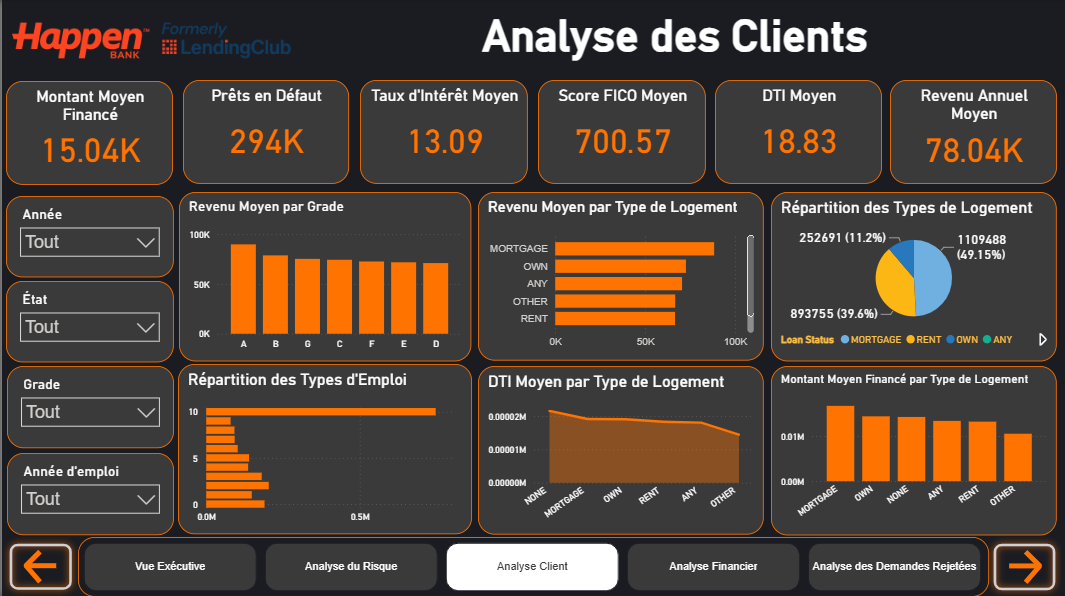

The page's visual inventory and layout, read from the dashboard file:
{"tool":"powerbi","page":{"name":"Analyse Client","canvas":[1280,720],"ordinal":2},"visuals":[{"type":"image","box":[12,8.4,335.9,83.1],"z":0},{"type":"cardVisual","title":"Montant Moyen Financé","fields":{"Data":["MESURES.Average Funded Amount"]},"box":[5.1,98.3,201.1,124.5],"z":1000},{"type":"textbox","box":[360,8.4,900.6,80.7],"z":2000},{"type":"cardVisual","title":"Prêts en Défaut","fields":{"Data":["MESURES.Defaulted Loans"]},"box":[217.5,97.7,199.6,125.2],"z":3000},{"type":"cardVisual","title":"Taux d''Intérêt Moyen","fields":{"Data":["Avg(FACT_ACCEPTED_LOANS.INTEREST_RATE)"]},"box":[430.8,97.7,202.3,125.2],"z":4000},{"type":"cardVisual","title":"Score FICO Moyen","fields":{"Data":["MESURES.Average FICO"]},"box":[645.5,97.7,202.3,125.2],"z":5000},{"type":"cardVisual","title":"DTI Moyen","fields":{"Data":["Avg(FACT_ACCEPTED_LOANS.DTI)"]},"box":[858.8,97.7,200.9,125.2],"z":6000},{"type":"pageNavigator","box":[91.5,647.8,1096.9,72.2],"z":7000},{"type":"actionButton","box":[1186,647.8,90.3,72.2],"z":8000},{"type":"cardVisual","title":"Revenu Annuel Moyen","fields":{"Data":["Avg(FACT_ACCEPTED_LOANS.ANNUAL_INCOME)"]},"box":[1069.4,97.7,200.9,125.2],"z":9000},{"type":"slicer","fields":{"Values":["DIM_DATE.YEAR"]},"box":[5,236.7,201.7,98.3],"z":10000},{"type":"slicer","fields":{"Values":["DIM_STATE.STATE_CODE"]},"box":[5,340,201.7,98.3],"z":11000},{"type":"slicer","fields":{"Values":["DIM_GRADE.GRADE"]},"box":[6,441.9,201.1,98.7],"z":12000},{"type":"slicer","fields":{"Values":["DIM_EMPLOYMENT.EMPLOYMENT_YEARS"]},"box":[6,546.6,201.1,98.7],"z":13000},{"type":"clusteredColumnChart","title":"Revenu Moyen par Grade","fields":{"Category":["DIM_GRADE.GRADE"],"Y":["Avg(FACT_ACCEPTED_LOANS.ANNUAL_INCOME)"]},"box":[213.3,232.6,352.3,203.7],"z":14000},{"type":"clusteredBarChart","title":"Revenu Moyen par Type de Logement","fields":{"Category":["DIM_HOME_OWNERSHIP.HOME_OWNERSHIP"],"Y":["Avg(FACT_ACCEPTED_LOANS.ANNUAL_INCOME)"]},"box":[573.1,232.4,344.3,203.5],"z":15000},{"type":"barChart","title":"Répartition des Types d''Emploi","fields":{"Category":["DIM_EMPLOYMENT.EMPLOYMENT_YEARS"],"Y":["MESURES.Accepted Loans"]},"box":[212,439.1,353.7,205.1],"z":16000},{"type":"lineChart","title":"DTI Moyen par Type de Logement","fields":{"Category":["DIM_HOME_OWNERSHIP.HOME_OWNERSHIP"],"Y":["Avg(FACT_ACCEPTED_LOANS.DTI)"]},"box":[573.1,441.9,344.3,203.5],"z":17000},{"type":"pieChart","title":"Répartition des Types de Logement","fields":{"Category":["DIM_HOME_OWNERSHIP.HOME_OWNERSHIP"],"Y":["MESURES.Accepted Loans"]},"box":[925.9,232.4,344.1,203.7],"z":18000},{"type":"columnChart","title":"Montant Moyen Financé par Type de Logement","fields":{"Category":["DIM_HOME_OWNERSHIP.HOME_OWNERSHIP"],"Y":["MESURES.Average Funded Amount"]},"box":[925.9,441.9,344.1,203.7],"z":19000},{"type":"actionButton","box":[1.4,648.3,90.8,71.6],"z":20000}]}

Visuals, with their boxes in screenshot pixels (x1, y1, x2, y2), scaled from the page's 1280x720 canvas onto the 1065x596 screenshot:
image: x1=10, y1=7, x2=289, y2=76
"Montant Moyen Financé" cardVisual: x1=4, y1=81, x2=172, y2=184
textbox: x1=300, y1=7, x2=1049, y2=74
"Prêts en Défaut" cardVisual: x1=181, y1=81, x2=347, y2=185
"Taux d''Intérêt Moyen" cardVisual: x1=358, y1=81, x2=527, y2=185
"Score FICO Moyen" cardVisual: x1=537, y1=81, x2=705, y2=185
"DTI Moyen" cardVisual: x1=715, y1=81, x2=882, y2=185
pageNavigator: x1=76, y1=536, x2=989, y2=595
actionButton: x1=987, y1=536, x2=1062, y2=595
"Revenu Annuel Moyen" cardVisual: x1=890, y1=81, x2=1057, y2=185
slicer - DIM_DATE.YEAR: x1=4, y1=196, x2=172, y2=277
slicer - DIM_STATE.STATE_CODE: x1=4, y1=281, x2=172, y2=363
slicer - DIM_GRADE.GRADE: x1=5, y1=366, x2=172, y2=447
slicer - DIM_EMPLOYMENT.EMPLOYMENT_YEARS: x1=5, y1=452, x2=172, y2=534
"Revenu Moyen par Grade" clusteredColumnChart: x1=177, y1=193, x2=471, y2=361
"Revenu Moyen par Type de Logement" clusteredBarChart: x1=477, y1=192, x2=763, y2=361
"Répartition des Types d''Emploi" barChart: x1=176, y1=363, x2=471, y2=533
"DTI Moyen par Type de Logement" lineChart: x1=477, y1=366, x2=763, y2=534
"Répartition des Types de Logement" pieChart: x1=770, y1=192, x2=1057, y2=361
"Montant Moyen Financé par Type de Logement" columnChart: x1=770, y1=366, x2=1057, y2=534
actionButton: x1=1, y1=537, x2=77, y2=595
